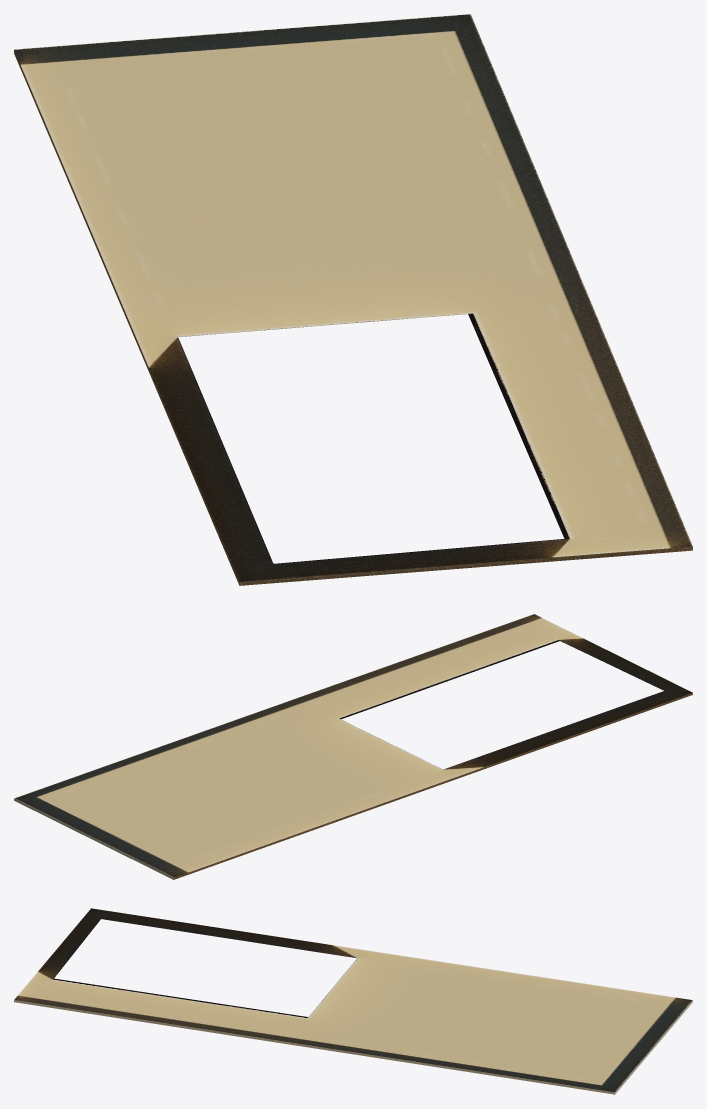
The model's file is Building_03_Rooftop.fbx.
The picture shows the model from 3 angles, top to bottom: view 1: azimuth 30°, elevation 25°; view 2: azimuth 150°, elevation 25°; view 3: azimuth 270°, elevation 25°; orthographic projection. The views are drawn at different scales.
Parts seen in each view (by area): view 1: Building_03_Rooftop; view 2: Building_03_Rooftop; view 3: Building_03_Rooftop.
Part boxes in pixels (<box>): Building_03_Rooftop: <box>14,14,692,585</box>; Building_03_Rooftop: <box>14,614,692,879</box>; Building_03_Rooftop: <box>14,908,692,1094</box>.
Size of the model in its own units: 34.05 by 0.175 by 53.02.
Materials: 1 (1 with a texture image).
